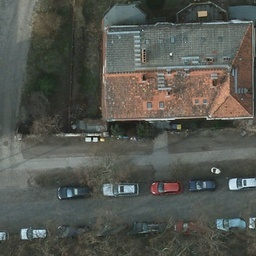car: (103, 180, 139, 196), (56, 183, 91, 199), (216, 215, 248, 231), (135, 218, 167, 234), (176, 217, 207, 233), (22, 224, 49, 242), (58, 222, 85, 240), (186, 178, 220, 192), (150, 181, 179, 195), (228, 177, 256, 190), (1, 230, 8, 242)
